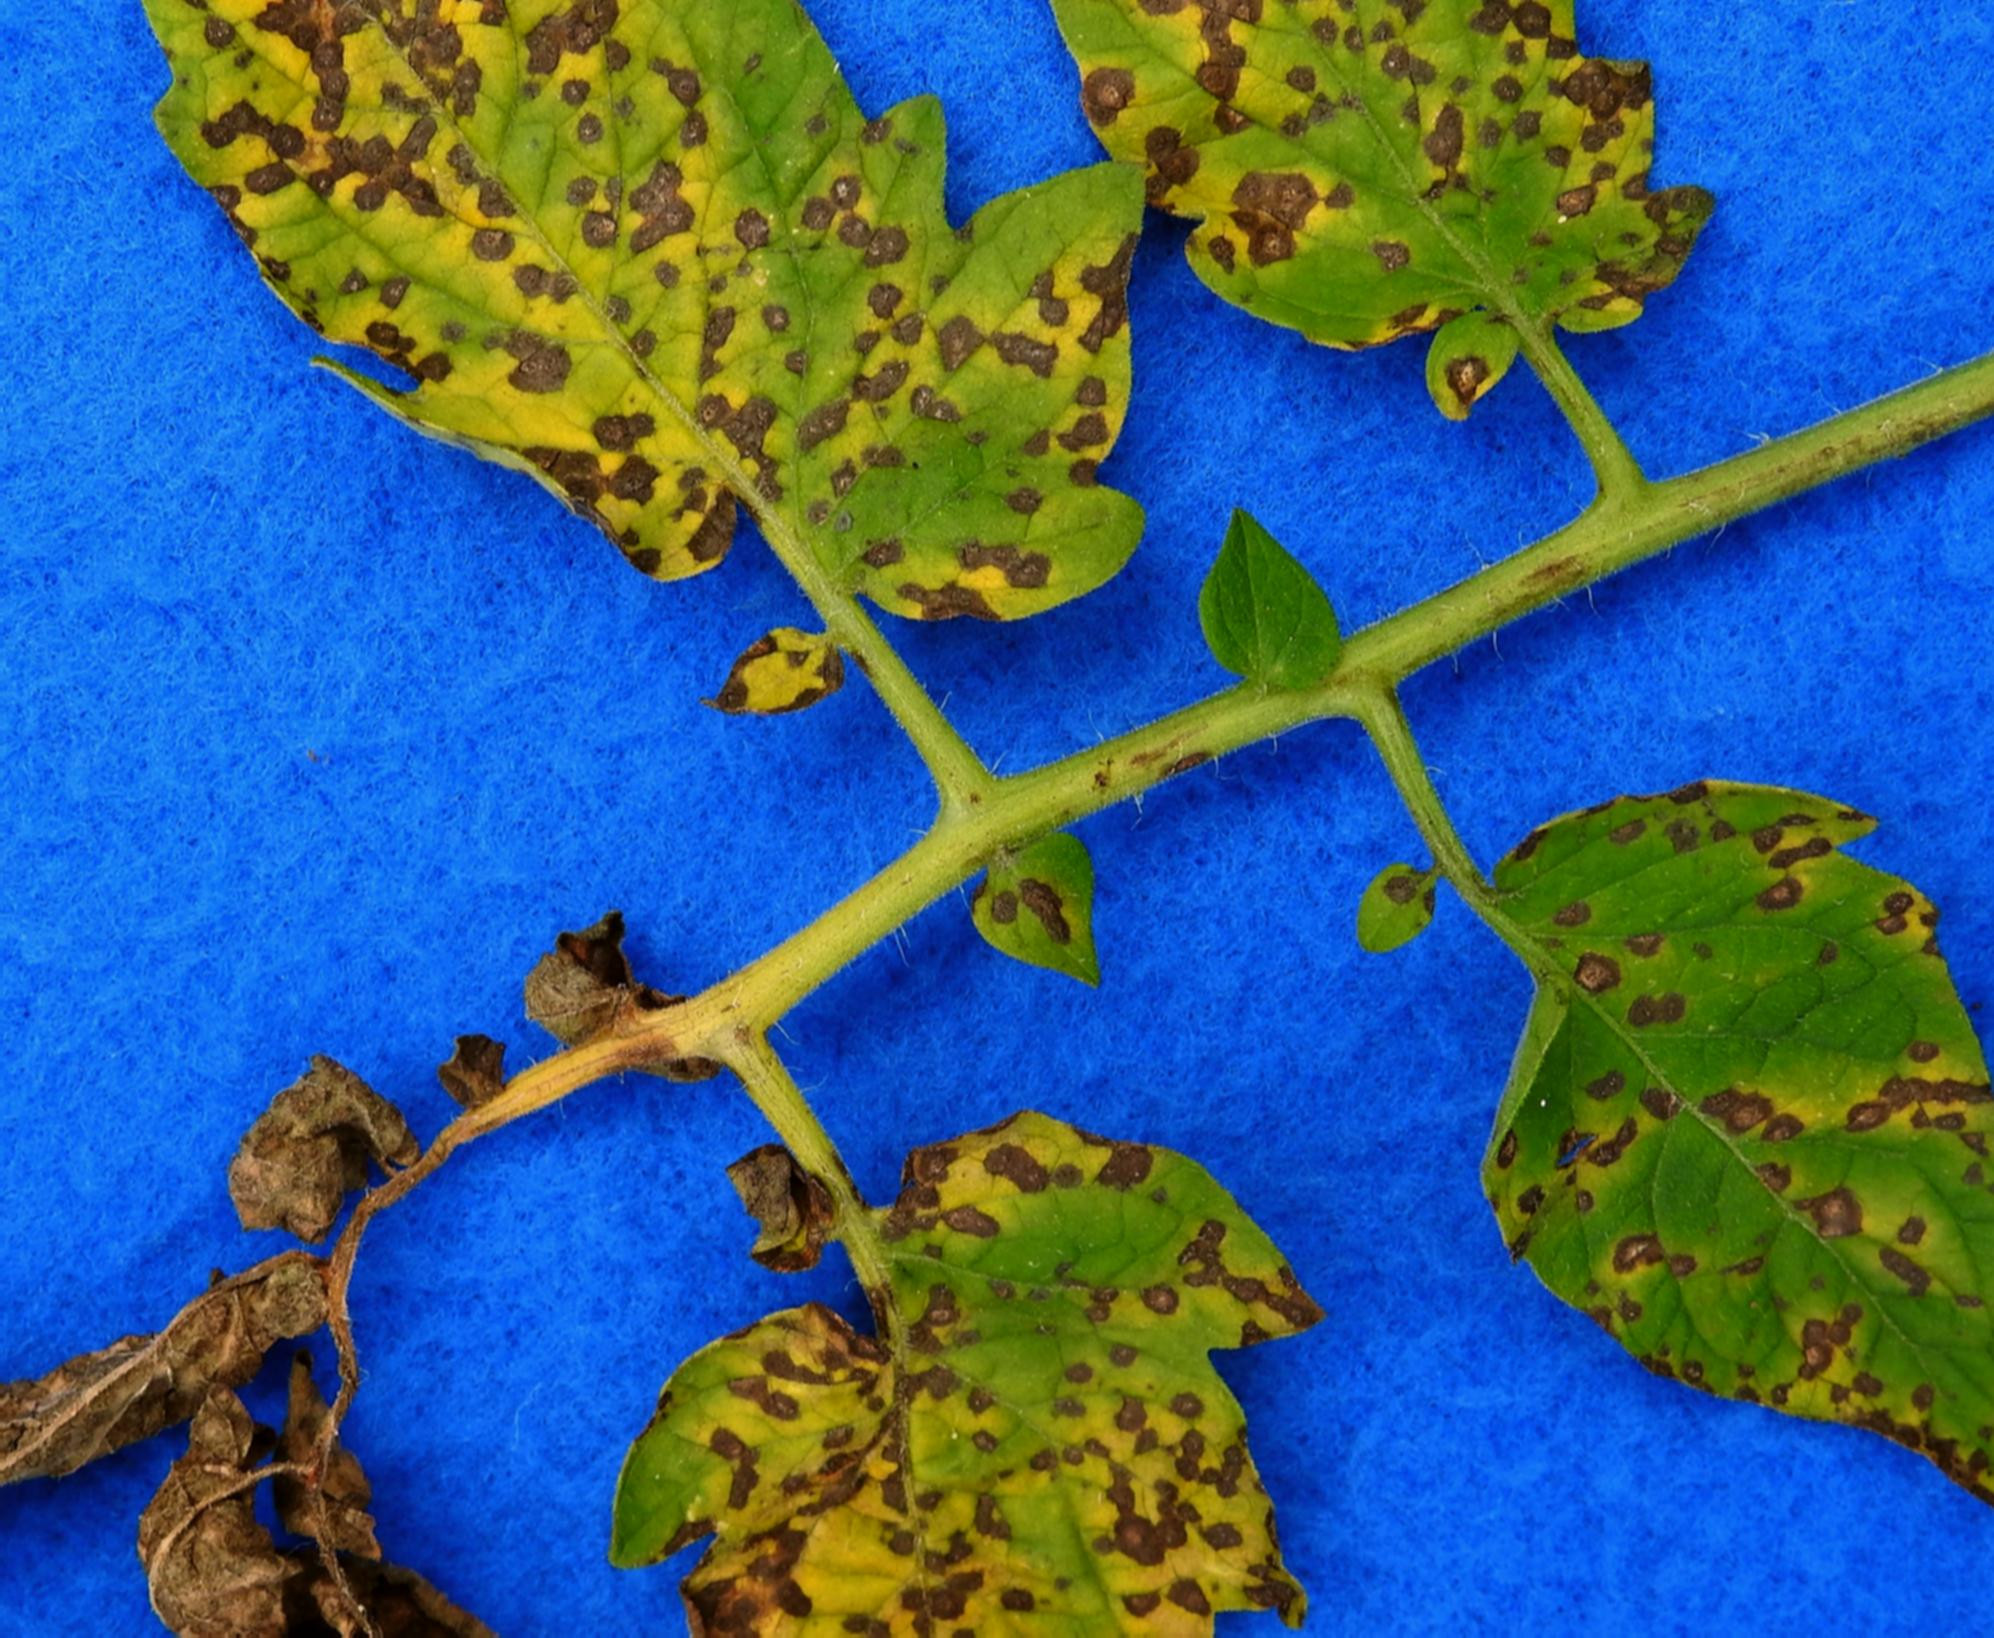Tomato Septoria leaf spot: (0, 0, 1146, 682), (1436, 707, 1994, 1577), (548, 1120, 1318, 1638), (1007, 0, 1704, 421)
